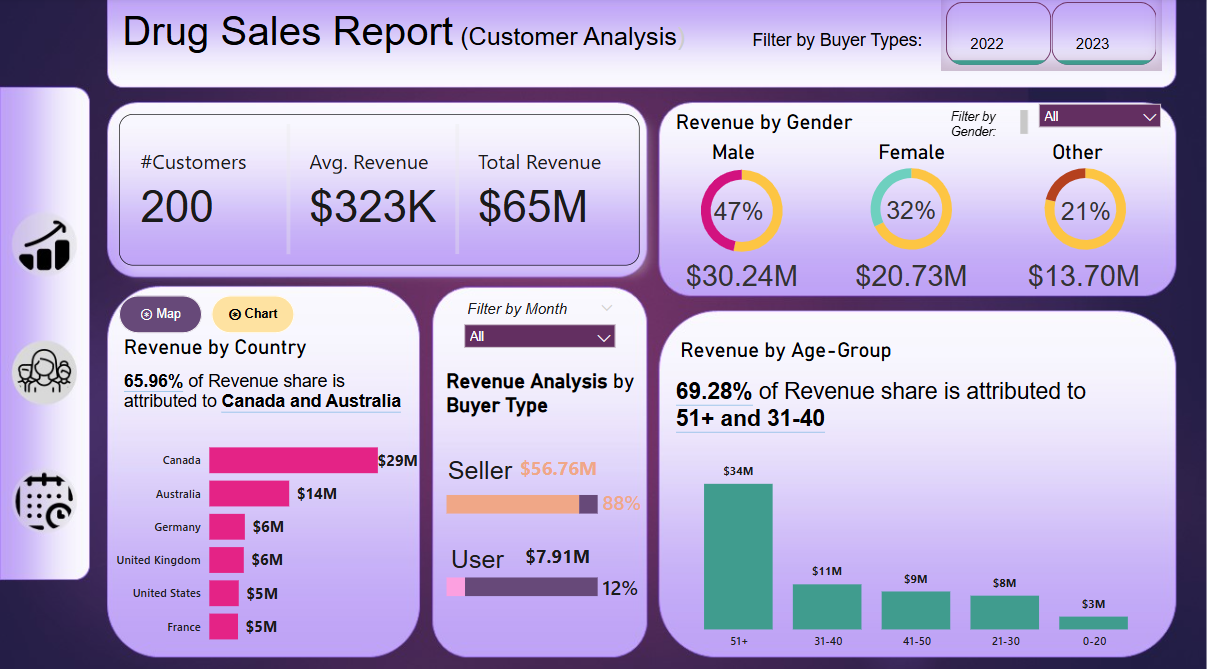

This screenshot's page, from the dashboard's own definition file:
{"tool":"powerbi","page":{"name":"Customer","canvas":[1280,720],"ordinal":2},"visuals":[{"type":"cardVisual","fields":{"Data":["Calculations.#Customers","Calculations.Avg. Revenue","Calculations.Total Revenue"]},"box":[127.2,124.1,551.9,160.7],"z":0},{"type":"clusteredBarChart","title":"Chart Country","fields":{"Y":["Calculations.Total Revenue"],"Category":["CustomerTable.Country"]},"box":[117,449.6,331.4,250.7],"z":1000,"group":"g1"},{"type":"donutChart","fields":{"Y":["Calculations.R:Male","Calculations.% Male Revenue"]},"box":[717.5,166.2,140,118.8],"z":1000},{"type":"card","fields":{"Values":["Calculations.% Male Revenue"]},"box":[752.5,192.5,63.8,70],"z":2000},{"type":"donutChart","fields":{"Y":["Calculations.R:Female","Calculations.% Female Revenue"]},"box":[897.5,164.8,140,118],"z":3000},{"type":"card","fields":{"Values":["Calculations.% Female Revenue"]},"box":[935.4,191,63.8,70],"z":4000},{"type":"donutChart","fields":{"Y":["Calculations.R:Other","Calculations.% Other Revenue"]},"box":[1081.2,164.8,140,118],"z":5000},{"type":"card","fields":{"Values":["Calculations.% Other Revenue"]},"box":[1118.4,192.4,68.3,69.5],"z":6000},{"type":"card","fields":{"Values":["Calculations.Male Revenue"]},"box":[717.5,273.1,140.3,43.4],"z":7000},{"type":"card","fields":{"Values":["Calculations.Other Revenue"]},"box":[1079.9,273.1,140.3,43.4],"z":8000},{"type":"card","fields":{"Values":["Calculations.Female Revenue"]},"box":[897.5,273.1,140.3,43.4],"z":9000},{"type":"columnChart","fields":{"Y":["Calculations.Total Revenue"],"Category":["CustomerTable.Age Group"]},"box":[705,480,537.5,220],"z":10000},{"type":"textbox","box":[712.6,399.2,528.1,87.5],"z":11000},{"type":"barChart","fields":{"Y":["Calculations.% Seller","Calculations.R: Seller"]},"box":[468.8,489,171.2,92.5],"z":12000},{"type":"barChart","fields":{"Y":["Calculations.% User","Calculations.R: User"]},"box":[468.8,576.5,171.2,92.5],"z":13000},{"type":"textbox","box":[471.5,482.7,94.3,53.4],"z":14000},{"type":"textbox","box":[474,576.5,94.3,53.4],"z":15000},{"type":"card","fields":{"Values":["Calculations.Seller Revenue"]},"box":[544,482,98.6,38.2],"z":16000},{"type":"card","fields":{"Values":["Calculations.User Revenue"]},"box":[542.4,575.8,101.8,36.6],"z":17000},{"type":"card","fields":{"Values":["Calculations.% Seller"]},"box":[629.7,519,61.2,37.5],"z":18000},{"type":"card","fields":{"Values":["Calculations.% User"]},"box":[628.8,609,61.2,36.2],"z":19000},{"type":"textbox","box":[468.8,390,210,67.5],"z":20000},{"type":"textbox","box":[712.5,115,220,38.8],"z":21000},{"type":"textbox","box":[717.5,356.2,256.2,37.5],"z":22000},{"type":"group","id":"g1","title":"Country Chart","box":[117,441.7,331.4,258.8],"z":23000},{"type":"bookmarkNavigator","box":[127.5,316.2,186.2,40],"z":24000},{"type":"textbox","box":[127.5,353.8,238.8,37.5],"z":25000},{"type":"textbox","box":[127.2,391.3,321.3,63.6],"z":26000},{"type":"textbox","box":[751.2,146.2,68.8,38.8],"z":27000},{"type":"textbox","box":[927.3,146.3,97,38.2],"z":28000},{"type":"textbox","box":[1112.5,146.2,75,38.8],"z":29000},{"type":"card","fields":{"Values":["Calculations.Active Country: Map"]},"box":[127.5,460,131.2,38.8],"z":30000},{"type":"textbox","box":[125,6.2,636.2,82.5],"z":31000},{"type":"slicer","fields":{"Values":["Calendar.Month"]},"box":[483.8,316.2,180,72.5],"z":32000},{"type":"textbox","box":[793.8,30,205,32.5],"z":33000},{"type":"advancedSlicerVisual","fields":{"Values":["Calendar.Year"]},"box":[998.9,0,233.8,77.9],"z":34000},{"type":"slicer","fields":{"Values":["CustomerTable.Gender"]},"box":[1092.7,103.4,149.5,42.9],"z":35000},{"type":"textbox","box":[1003.7,114.5,92.3,38.2],"z":36000},{"type":"actionButton","box":[9.5,498.8,78.6,72.6],"z":37000},{"type":"actionButton","box":[9.5,225,78.6,72.6],"z":38000}]}

Visuals, with their boxes in screenshot pixels (x1, y1, x2, y2), scaled from the page's 1280x720 canvas onto the 1207x669 screenshot:
cardVisual - Calculations.#Customers x Calculations.Avg. Revenue: l=120, t=115, r=640, b=265
"Chart Country" clusteredBarChart: l=110, t=418, r=423, b=651
donutChart - Calculations.R:Male x Calculations.% Male Revenue: l=677, t=154, r=809, b=265
card - Calculations.% Male Revenue: l=710, t=179, r=770, b=244
donutChart - Calculations.R:Female x Calculations.% Female Revenue: l=846, t=153, r=978, b=263
card - Calculations.% Female Revenue: l=882, t=177, r=942, b=243
donutChart - Calculations.R:Other x Calculations.% Other Revenue: l=1020, t=153, r=1152, b=263
card - Calculations.% Other Revenue: l=1055, t=179, r=1119, b=243
card - Calculations.Male Revenue: l=677, t=254, r=809, b=294
card - Calculations.Other Revenue: l=1018, t=254, r=1151, b=294
card - Calculations.Female Revenue: l=846, t=254, r=979, b=294
columnChart - Calculations.Total Revenue x CustomerTable.Age Group: l=665, t=446, r=1172, b=650
textbox: l=672, t=371, r=1170, b=452
barChart - Calculations.% Seller x Calculations.R: Seller: l=442, t=454, r=604, b=540
barChart - Calculations.% User x Calculations.R: User: l=442, t=536, r=604, b=622
textbox: l=445, t=449, r=534, b=498
textbox: l=447, t=536, r=536, b=585
card - Calculations.Seller Revenue: l=513, t=448, r=606, b=483
card - Calculations.User Revenue: l=511, t=535, r=607, b=569
card - Calculations.% Seller: l=594, t=482, r=651, b=517
card - Calculations.% User: l=593, t=566, r=651, b=599
textbox: l=442, t=362, r=640, b=425
textbox: l=672, t=107, r=879, b=143
textbox: l=677, t=331, r=918, b=366
"Country Chart" group: l=110, t=410, r=423, b=651
bookmarkNavigator: l=120, t=294, r=296, b=331
textbox: l=120, t=329, r=345, b=364
textbox: l=120, t=364, r=423, b=423
textbox: l=708, t=136, r=773, b=172
textbox: l=874, t=136, r=966, b=171
textbox: l=1049, t=136, r=1120, b=172
card - Calculations.Active Country: Map: l=120, t=427, r=244, b=463
textbox: l=118, t=6, r=718, b=82
slicer - Calendar.Month: l=456, t=294, r=626, b=361
textbox: l=749, t=28, r=942, b=58
advancedSlicerVisual - Calendar.Year: l=942, t=0, r=1162, b=72
slicer - CustomerTable.Gender: l=1030, t=96, r=1171, b=136
textbox: l=946, t=106, r=1033, b=142
actionButton: l=9, t=463, r=83, b=531
actionButton: l=9, t=209, r=83, b=277
